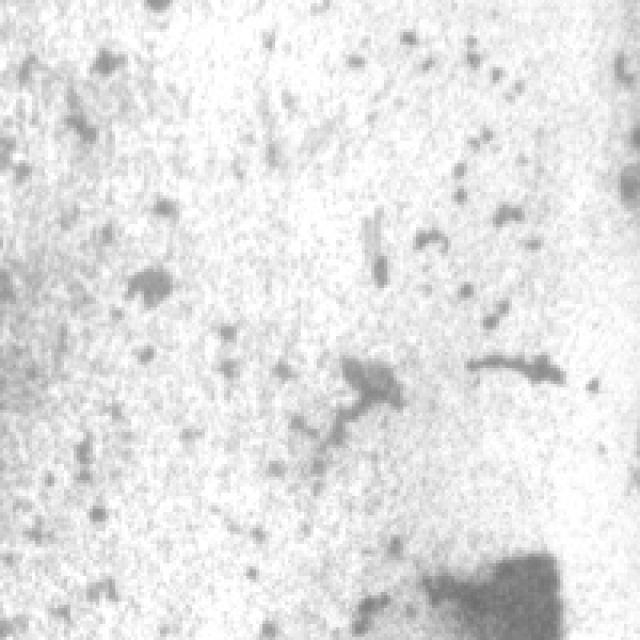patches: (410, 544, 579, 637)
pitted_surface: (288, 16, 618, 512)
